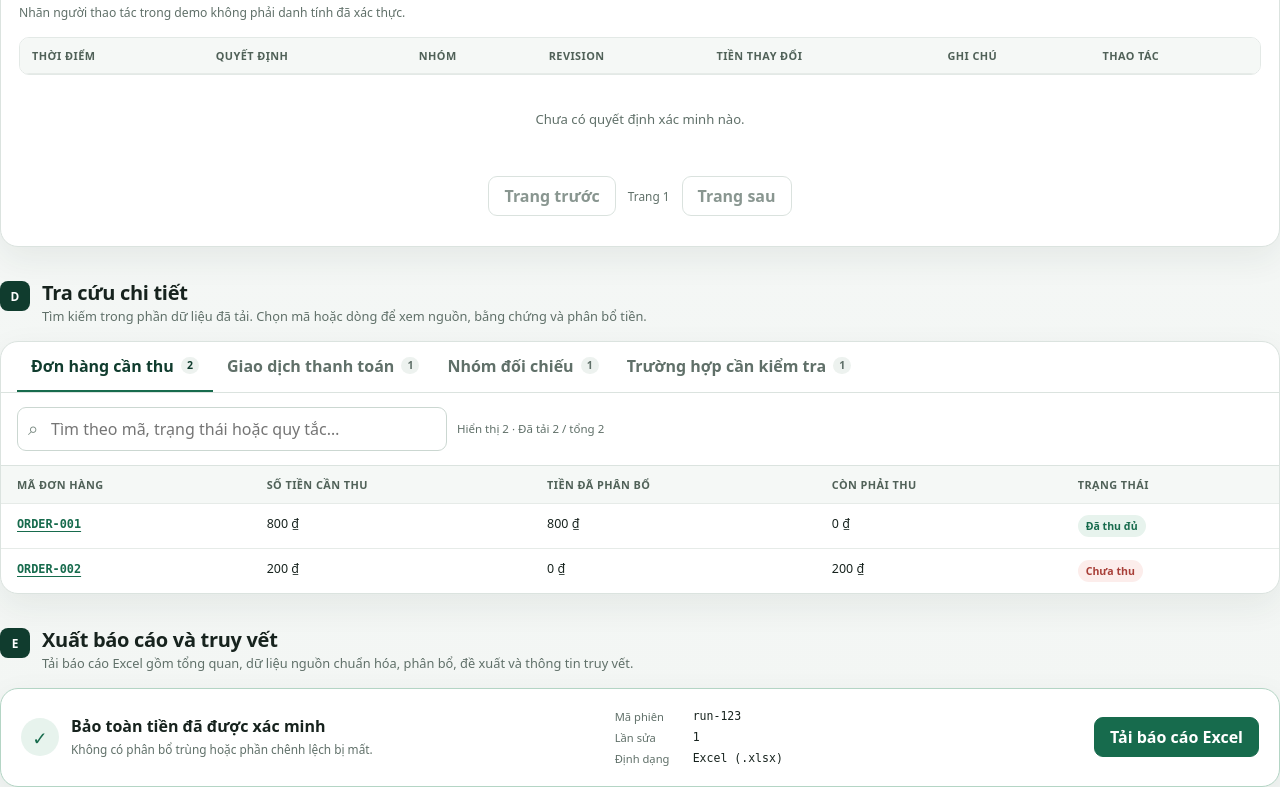
Test: dashboard sắp xếp đúng luồng, tra cứu trang hiện tại và xuất Excel
The width and height of the screenshot is (1280, 787).
(page scrolled)
Type "ORDER-002" into the field with placeholder "Tìm theo mã, trạng thái hoặc quy tắc…".
click(232, 429); type("ORDER-002")  # box [17, 407, 447, 451]
(page scrolled)
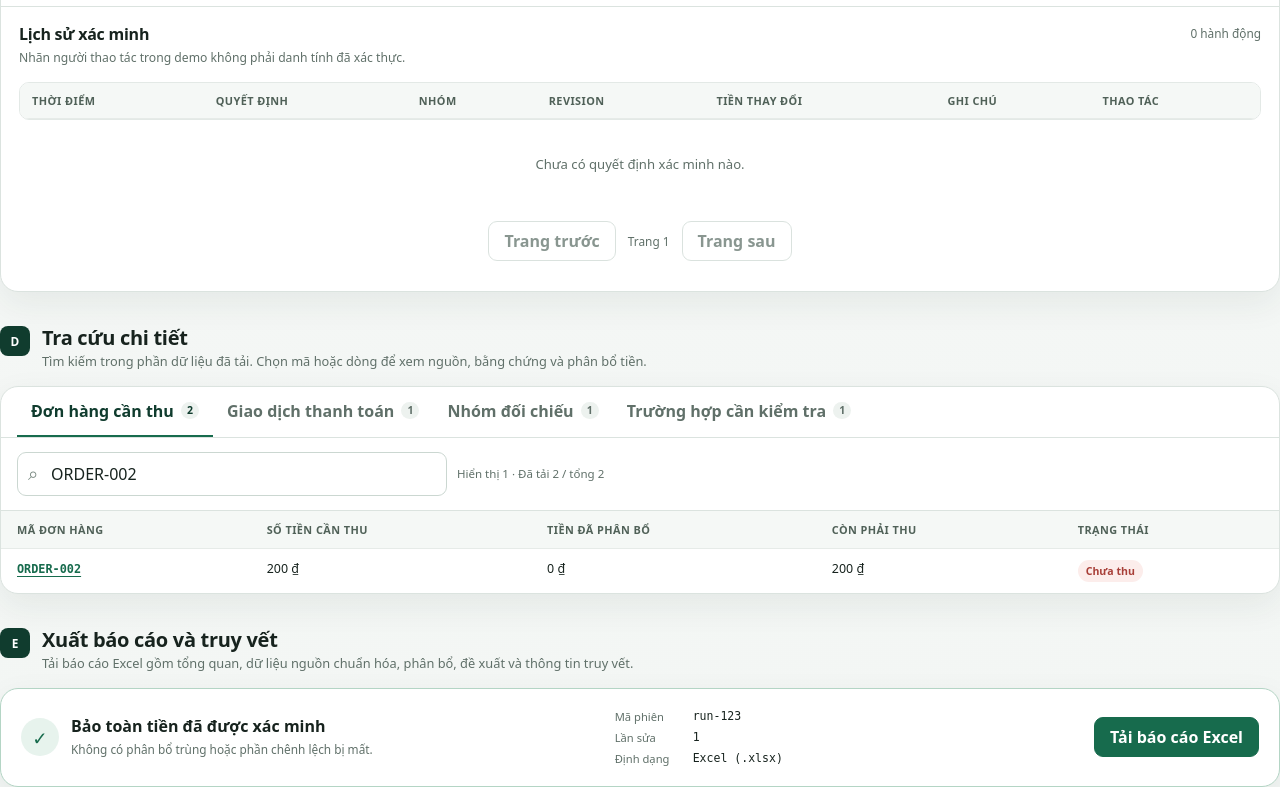
Expected: the button "ORDER-002" is shown, [17, 560, 81, 578]
Expected: the button "ORDER-001" is gone
Click the tab "Nhóm đối chiếu 1".
click(523, 412)  # box [433, 387, 613, 437]
(page scrolled)
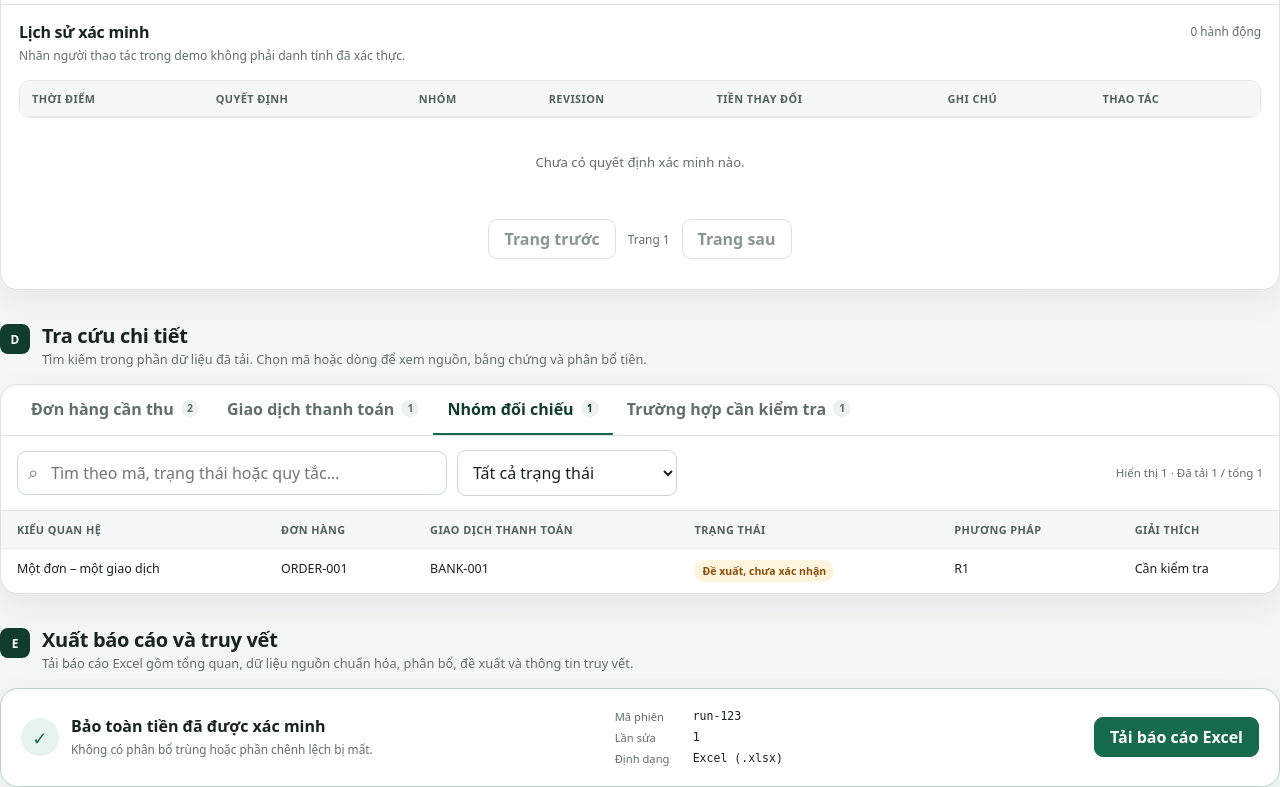
Expected: the text "run-123" is shown, [693, 709, 741, 723]
Expected: the text "Đề xuất, chưa xác nhận" is shown, [694, 560, 834, 582]
